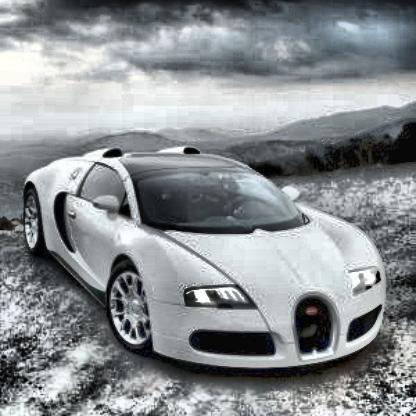Bugatti Veyron 16-4 Convertible 2009: (23, 147, 387, 370)
